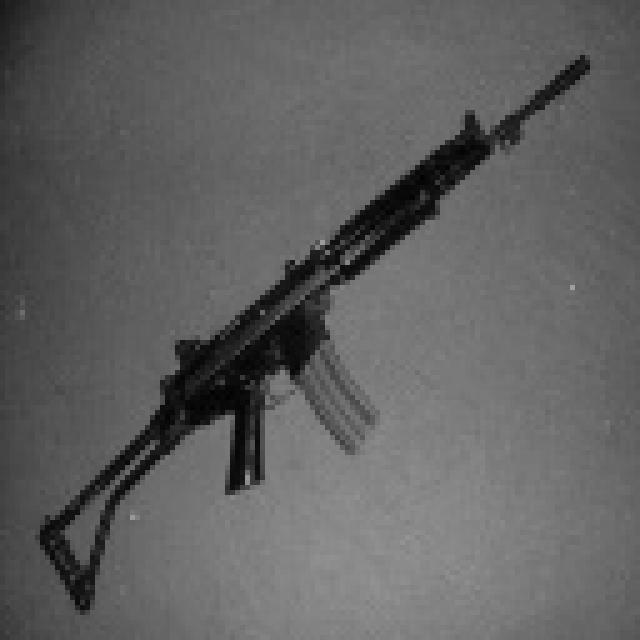Rifle: (52, 122, 524, 583)
